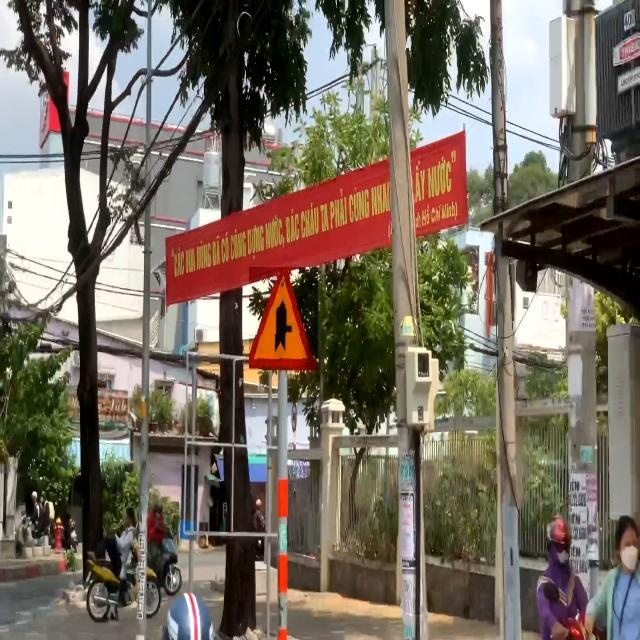bien_nguy_hiem: (249, 267, 318, 370)
